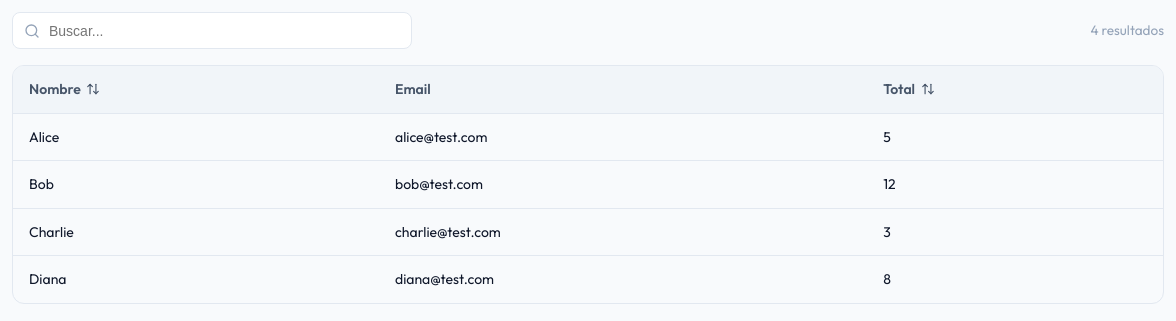
Scenario: DataTable › clears search when X is clicked
Type "bob" into the field with placeholder "Buscar..." at (212, 31), box x1=12 y1=12 x2=412 y2=49
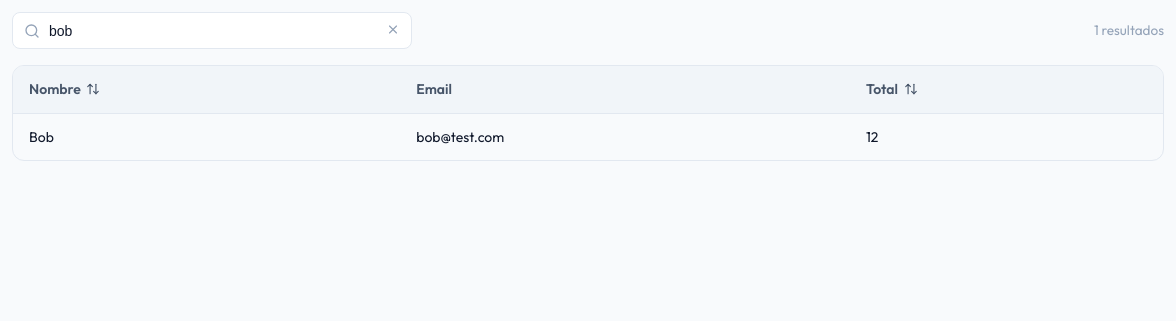
Expected: the text "Alice" is gone
Click the button named "Limpiar" at (393, 31), box x1=382 y1=18 x2=404 y2=43
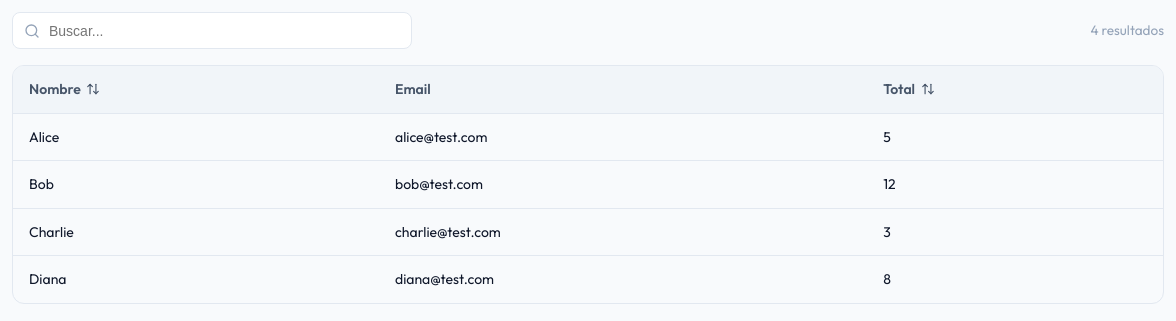
Expected: the text "Bob" is shown, x1=13 y1=161 x2=379 y2=208
Expected: the text "Alice" is shown, x1=13 y1=114 x2=379 y2=161
